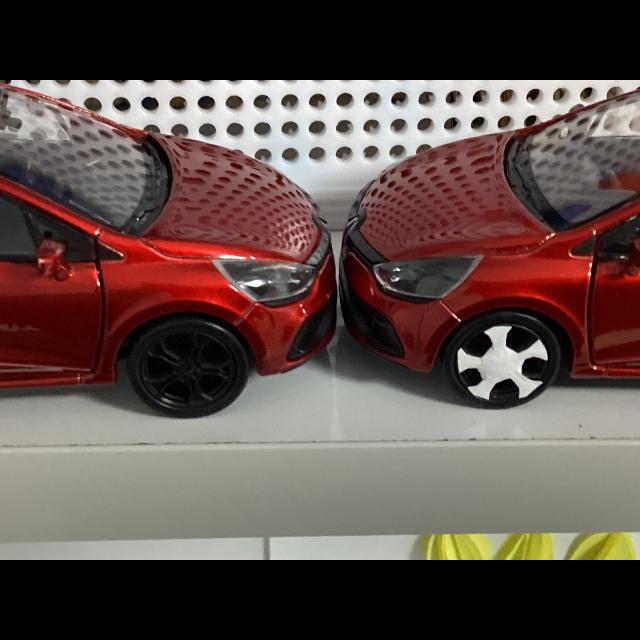Dogru_Jant: (140, 330, 234, 408)
Yanlis_Jant: (457, 325, 549, 403)
